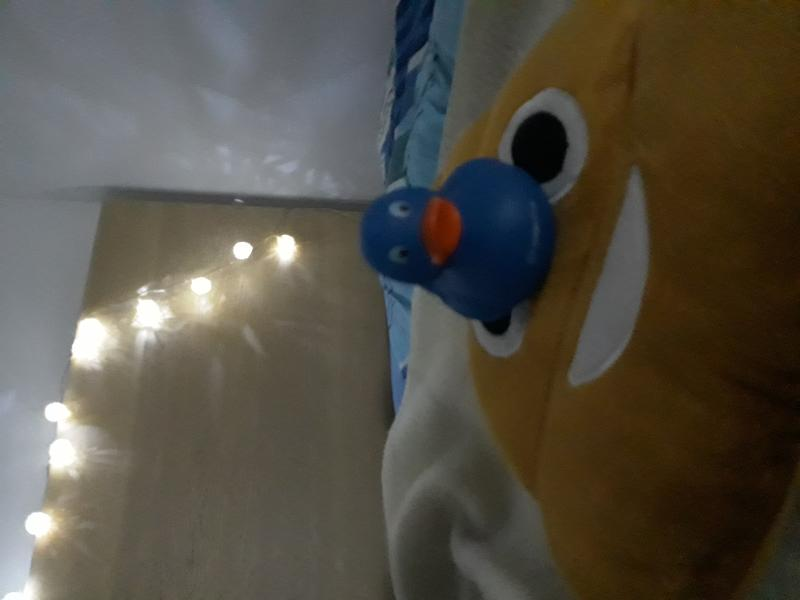plava_patkica: (351, 150, 559, 326)
